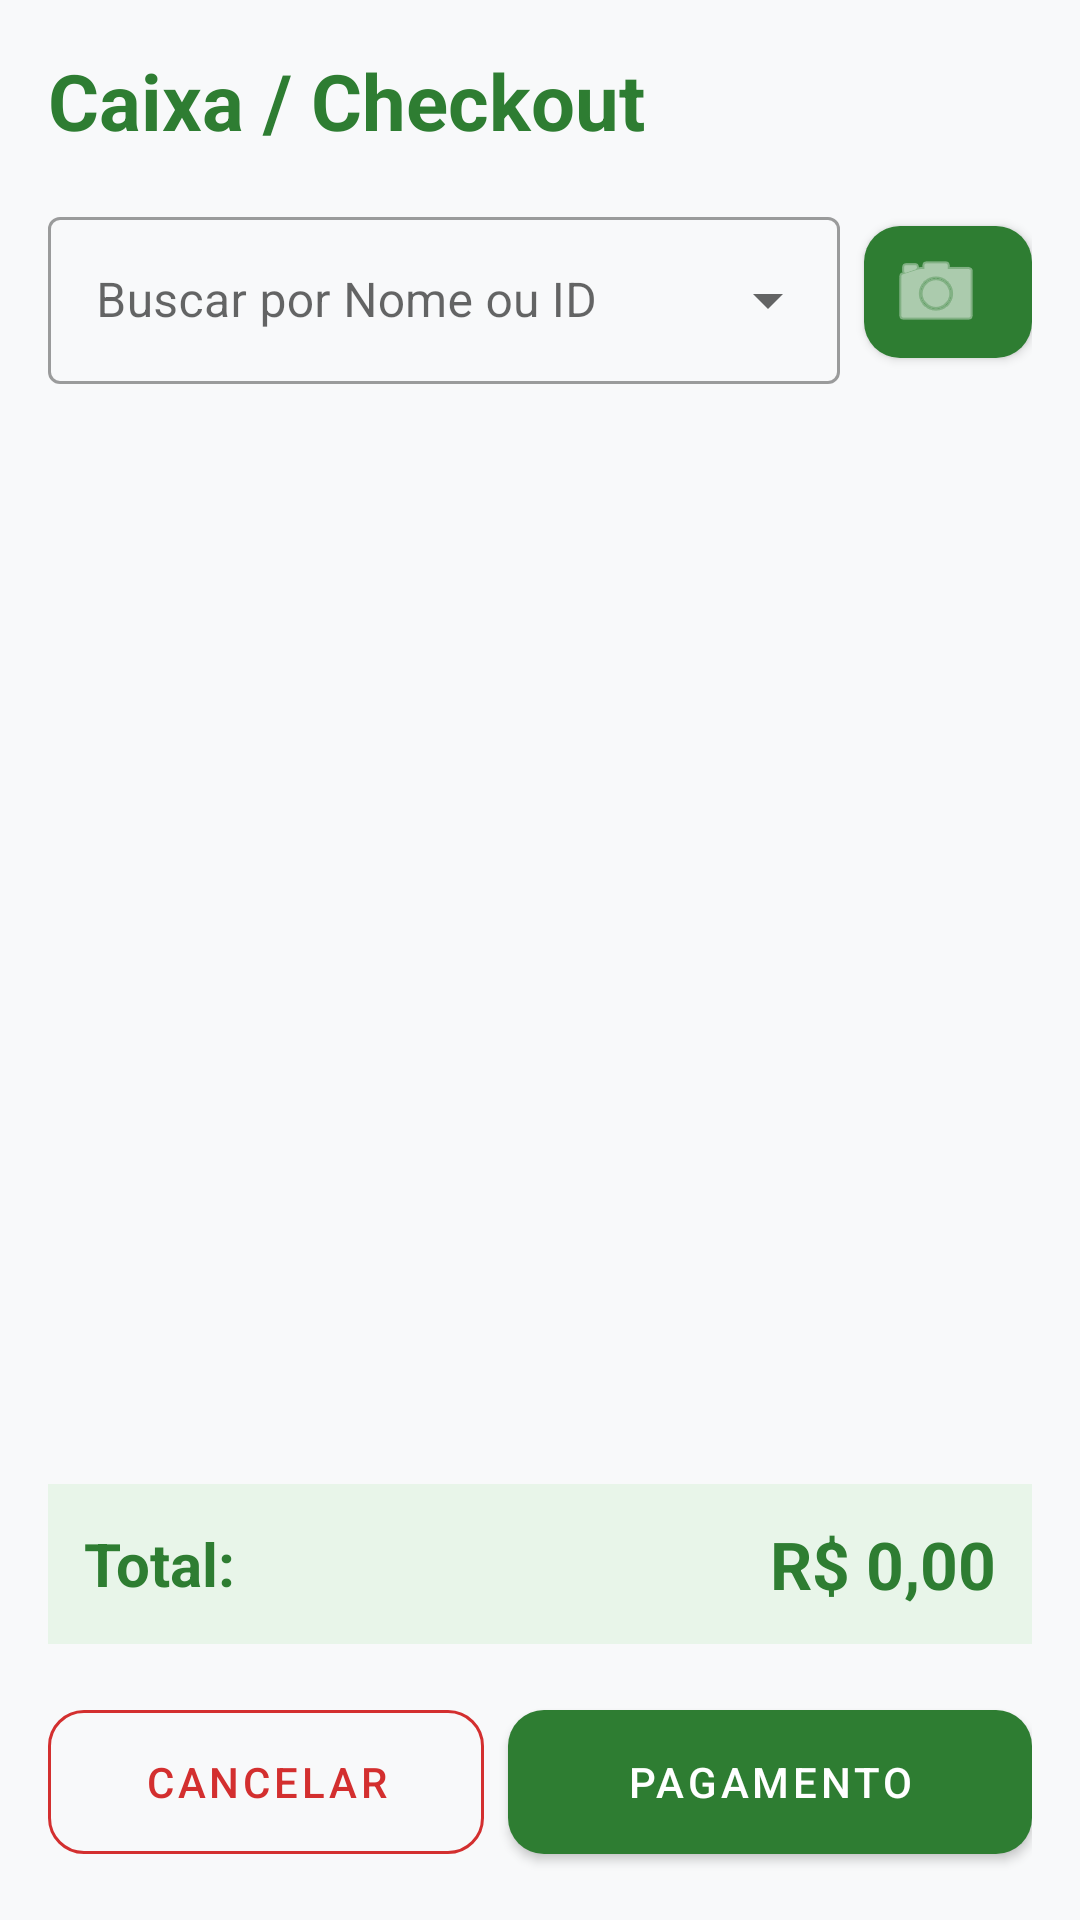

Icon bounding boxes for this 1080px×1920px phone screenshot, format box(x1, y1, x2, y2):
camera: box(864, 226, 1032, 359)
